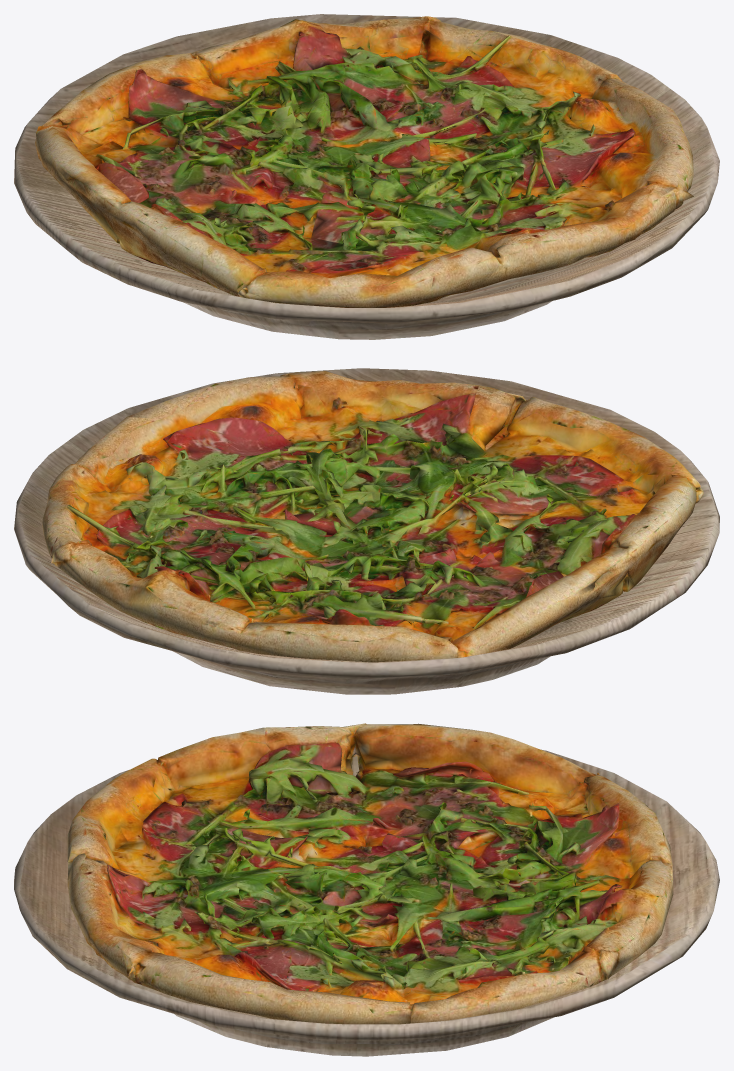
The model's file is VegPizza_small-v1.glb.
The picture shows the model from 3 angles, top to bottom: view 1: azimuth 30°, elevation 25°; view 2: azimuth 150°, elevation 25°; view 3: azimuth 270°, elevation 25°; orthographic projection.
Visible parts, largest first — view 1: pizza, Tarelka001; view 2: pizza, Tarelka001; view 3: pizza, Tarelka001.
Part boxes in pixels (bbox=[...]): pizza: bbox=[35, 16, 693, 307]; Tarelka001: bbox=[14, 14, 719, 339]; pizza: bbox=[42, 371, 704, 662]; Tarelka001: bbox=[14, 368, 719, 694]; pizza: bbox=[67, 723, 673, 1024]; Tarelka001: bbox=[14, 749, 719, 1056].
Bounding box in the file's own units: 0.6024 × 0.1025 × 0.6024.
2 materials, 2 textured.
